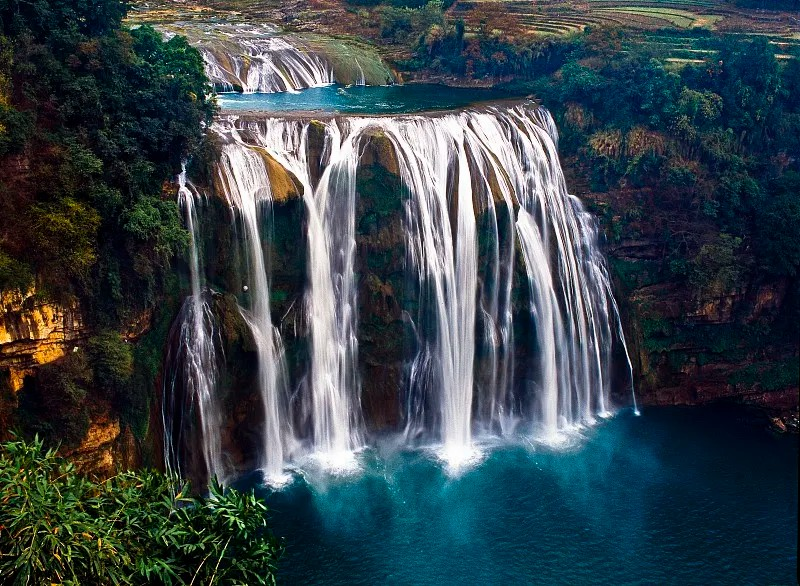Huangguoshu: (176, 107, 628, 489)
